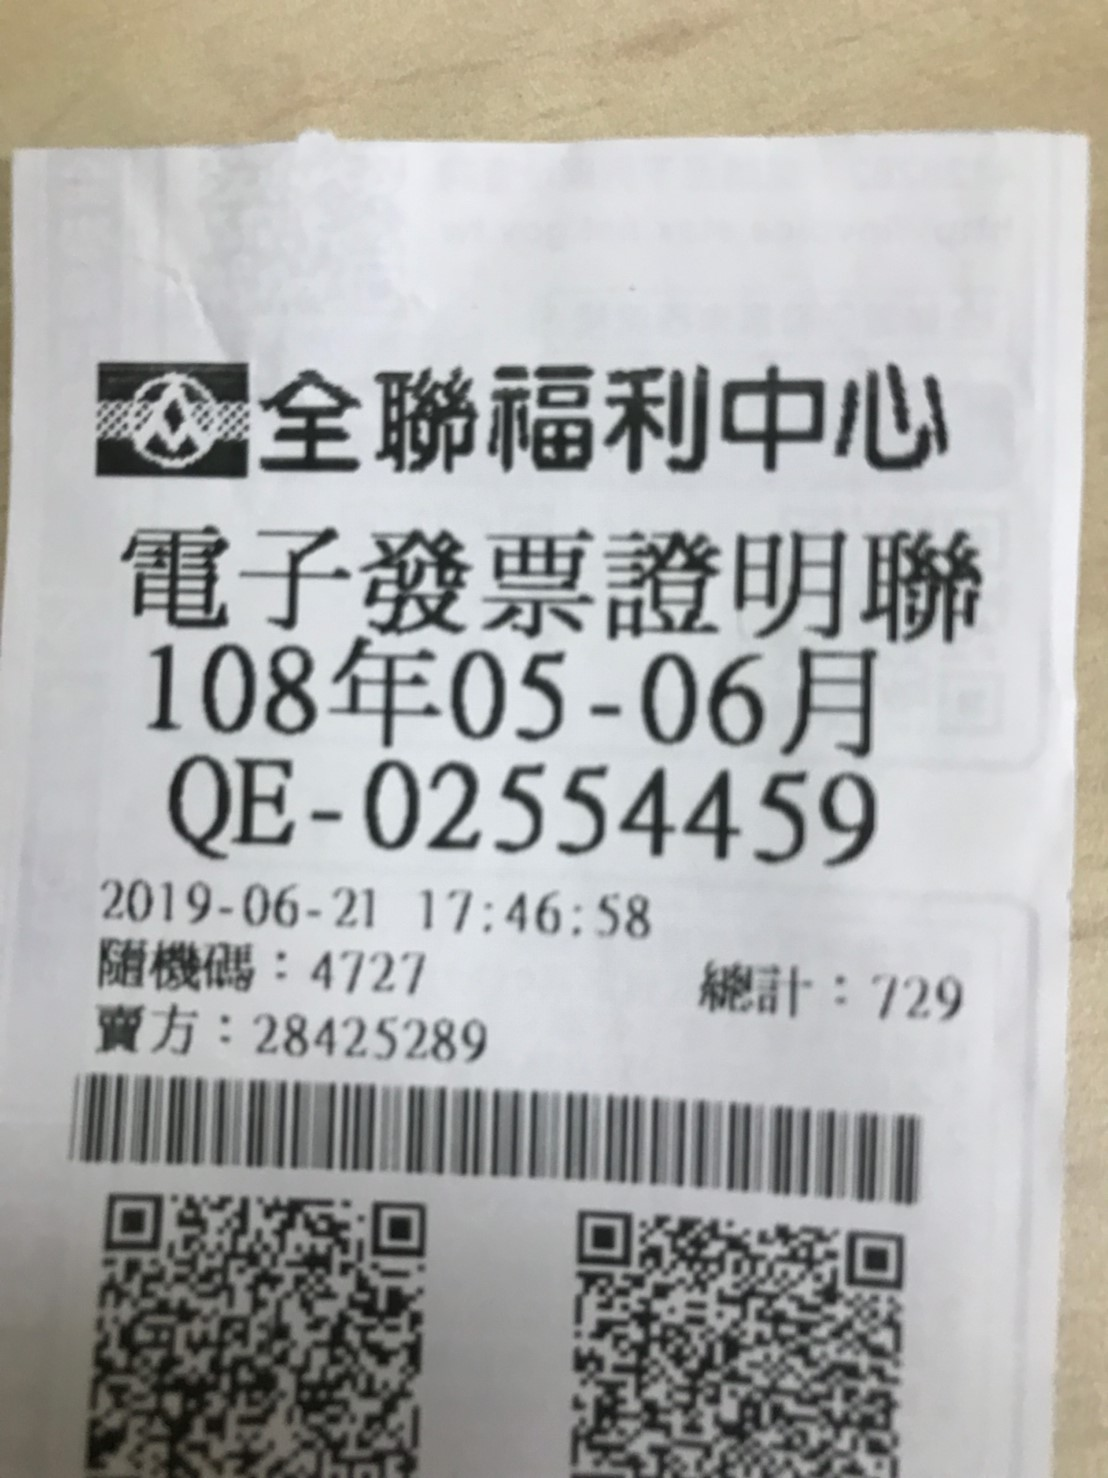Date_New: (143, 637, 882, 766)
Number_New: (364, 760, 881, 871)
